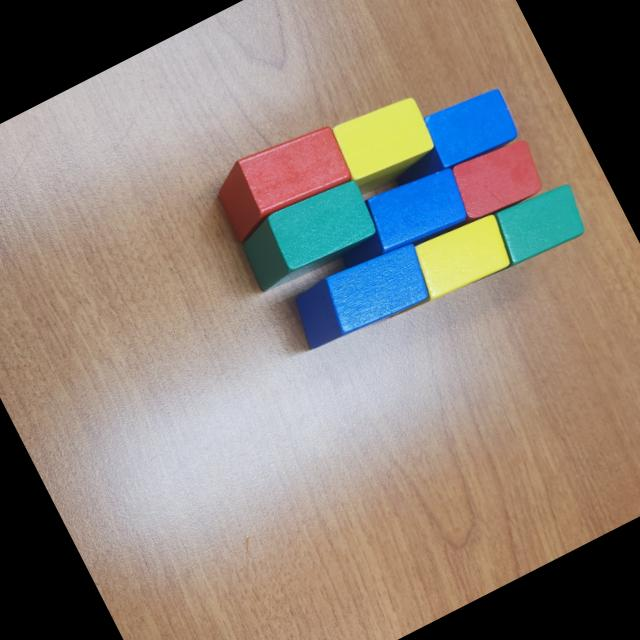blue: (283, 234, 443, 358), (329, 157, 477, 276), (377, 81, 525, 197)
green: (231, 172, 384, 298), (446, 176, 596, 291)
red: (205, 116, 358, 244), (444, 131, 550, 226)
yellow: (368, 207, 518, 324), (326, 88, 444, 198)
